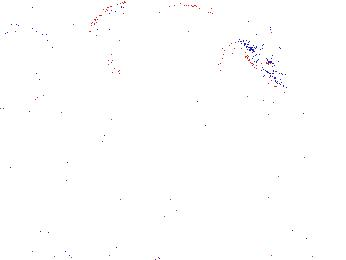moon jellyfish: (131, 5, 236, 70), (88, 1, 163, 78), (219, 41, 292, 117), (3, 24, 58, 103)
